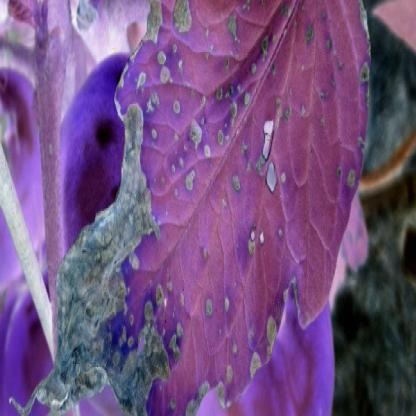Tomato Septoria leaf spot: (22, 6, 378, 414)
